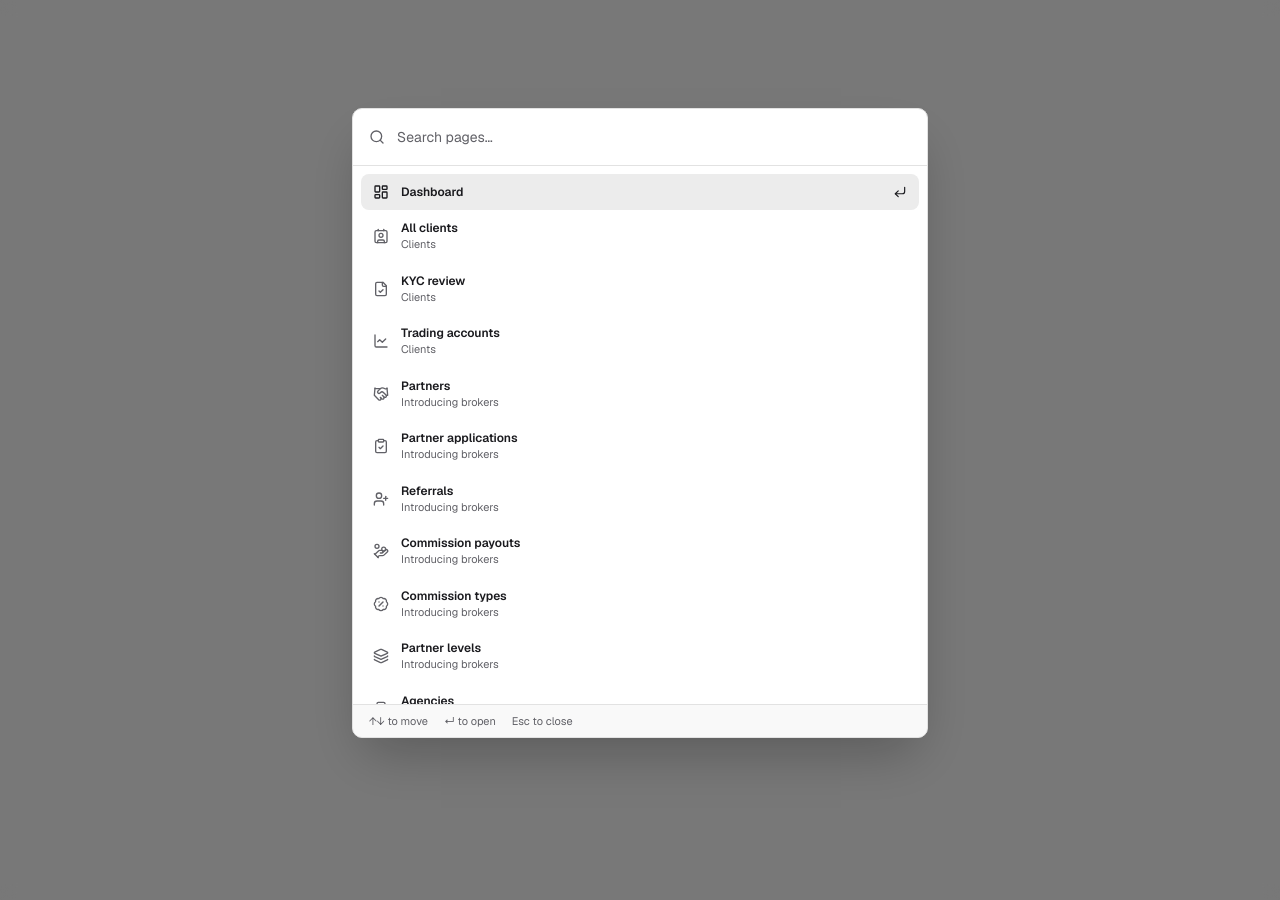
Scenario: finding a page › narrows on the label
This screenshot has width=1280, height=900.
Type "wallet" into the field at (654, 137), box [397,109,911,165]
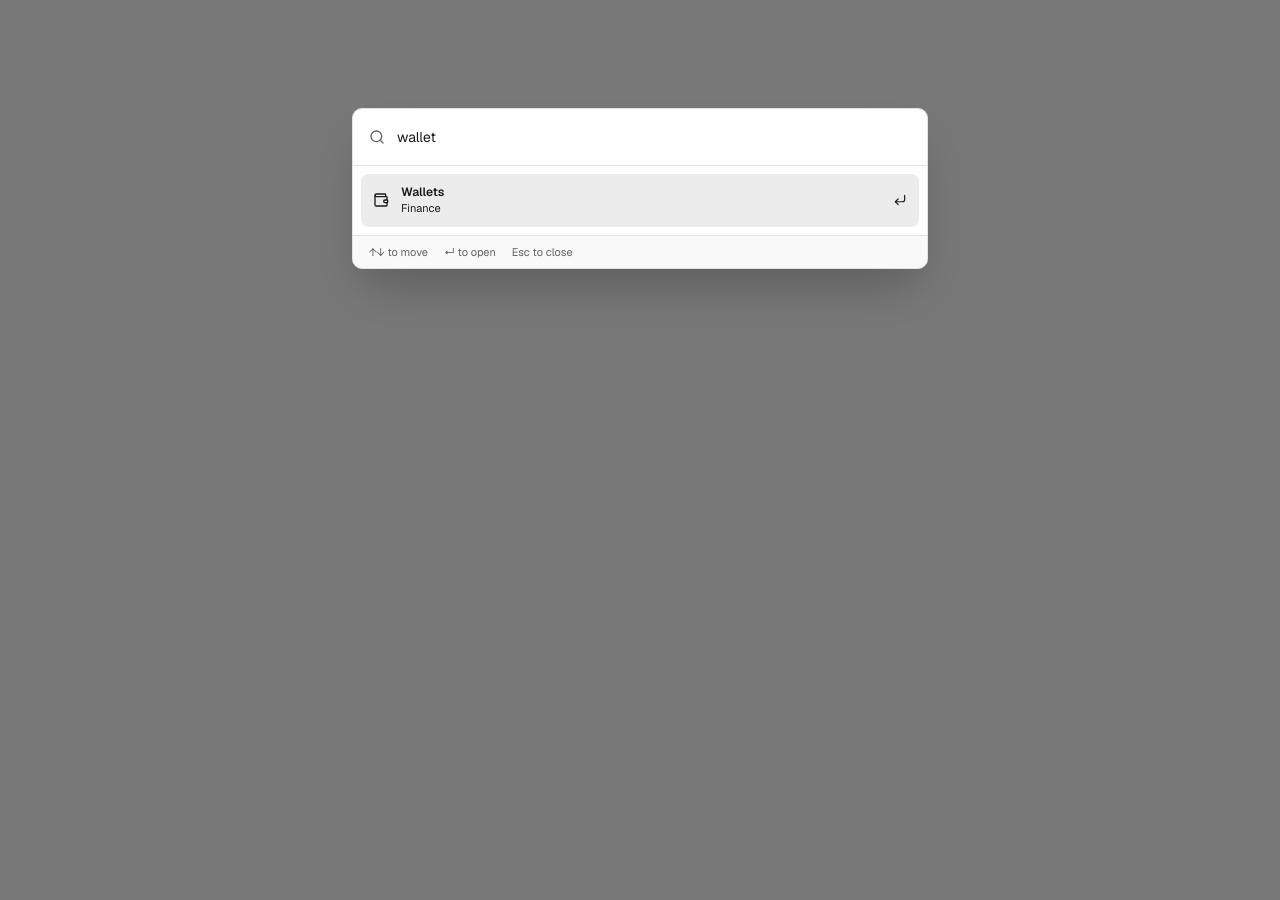
Expected: the option "Wallets Finance" is shown, [361,174,919,226]
Expected: the option "Dashboard" is gone
